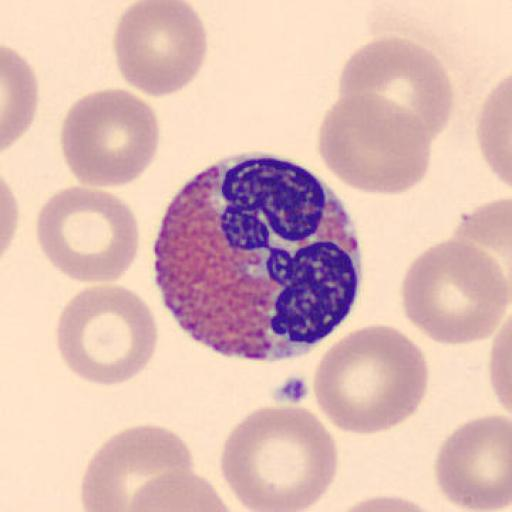RBC: (312, 322, 430, 436), (218, 403, 340, 512), (338, 35, 454, 144), (399, 237, 511, 347), (318, 91, 432, 195), (54, 282, 158, 388), (35, 184, 141, 284), (60, 86, 160, 190), (79, 423, 195, 512), (112, 0, 209, 99), (434, 413, 512, 511), (451, 193, 512, 305), (126, 469, 244, 512), (476, 72, 512, 192), (1, 43, 40, 152), (325, 493, 450, 512), (489, 319, 512, 419), (2, 174, 22, 256)
WBC: (151, 155, 364, 361)
